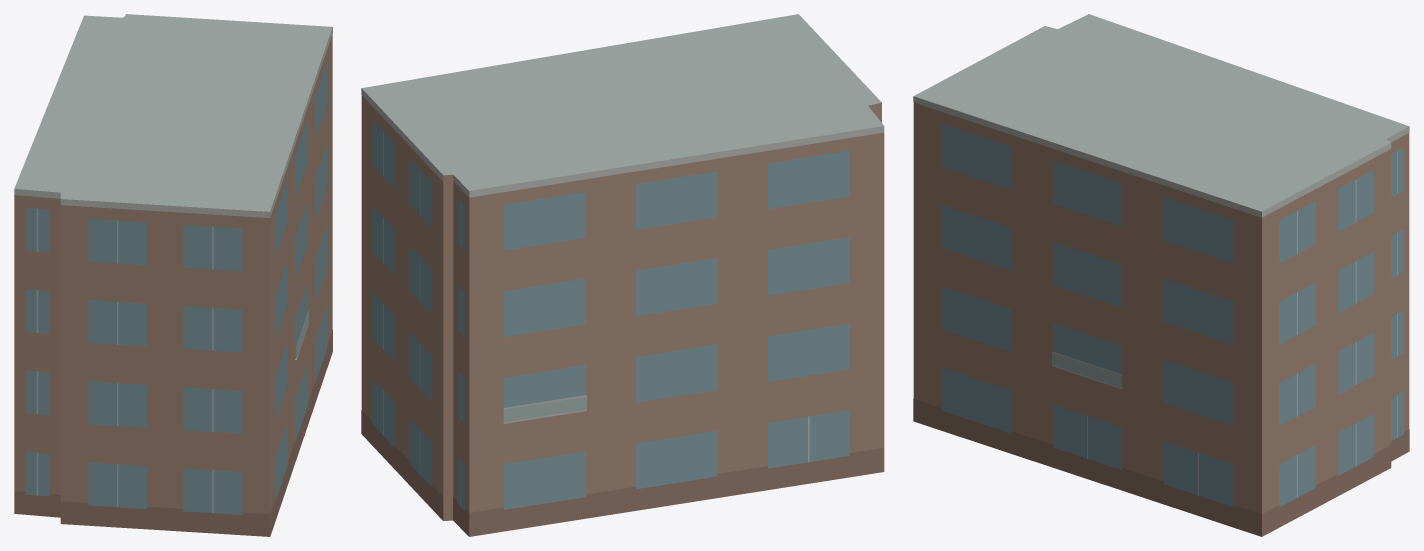
File: survey-upis-32994931.glb
3 views of the same model, side by side, from view 1: azimuth 30°, elevation 25°; view 2: azimuth 150°, elevation 25°; view 3: azimuth 270°, elevation 25° (orthographic). The views are drawn at different scales.
Visible parts, largest first — view 1: survey-upis-32994931.tmp; view 2: survey-upis-32994931.tmp; view 3: survey-upis-32994931.tmp.
Boxes of the visible parts, x1,y1,x2,y2 form: survey-upis-32994931.tmp: [14, 14, 332, 536]; survey-upis-32994931.tmp: [361, 14, 884, 536]; survey-upis-32994931.tmp: [913, 14, 1409, 536].
Size of the model in its own units: 16.83 by 12.9 by 17.84.
